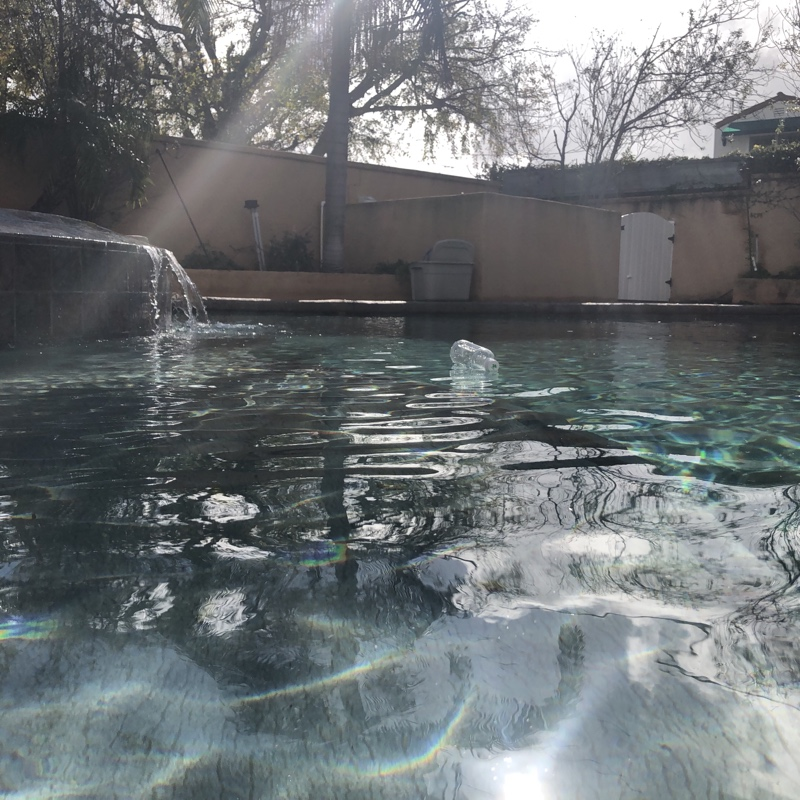Plastic Bottle: (443, 336, 502, 380)
